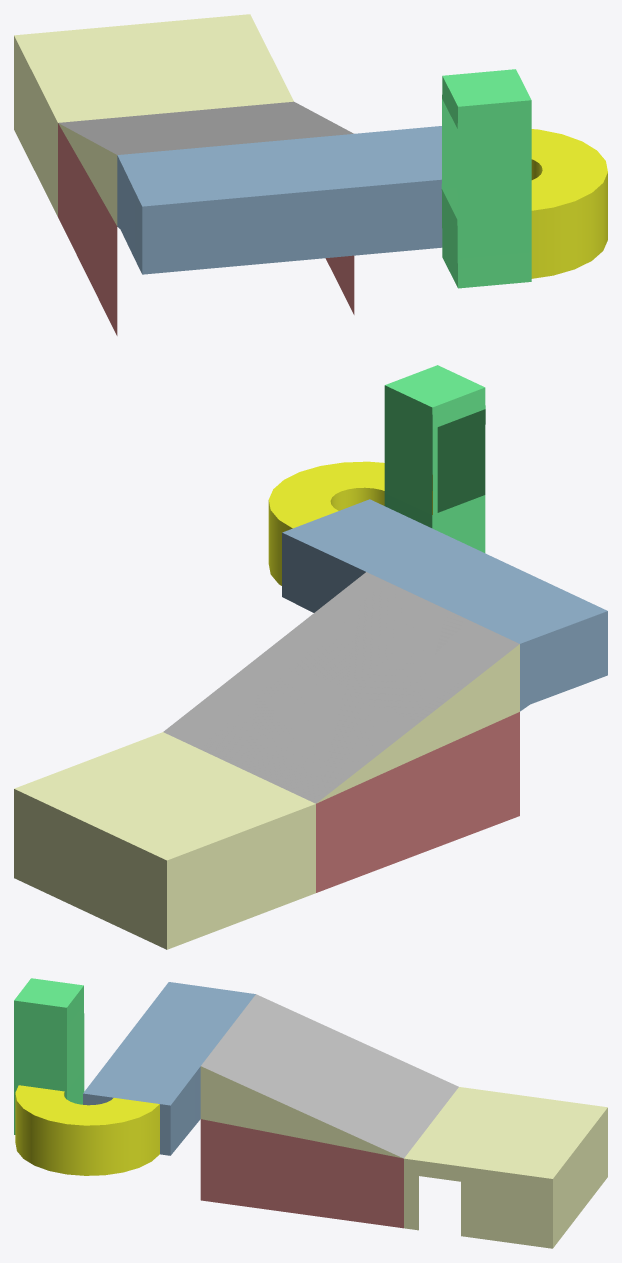
File: Close_Lower_Wall_experimental.fbx
3 views of the same model, one above another, from view 1: azimuth 30°, elevation 25°; view 2: azimuth 150°, elevation 25°; view 3: azimuth 270°, elevation 25° (orthographic). The views are drawn at different scales.
Parts seen in each view (by area): view 1: Close_Lower_Wall_low; view 2: Close_Lower_Wall_low; view 3: Close_Lower_Wall_low.
Part boxes in pixels (x1,y1,x2,y2): Close_Lower_Wall_low: [14, 14, 607, 335]; Close_Lower_Wall_low: [14, 365, 607, 949]; Close_Lower_Wall_low: [14, 978, 607, 1248].
Size of the model in its own units: 1837 by 1300 by 3206.
